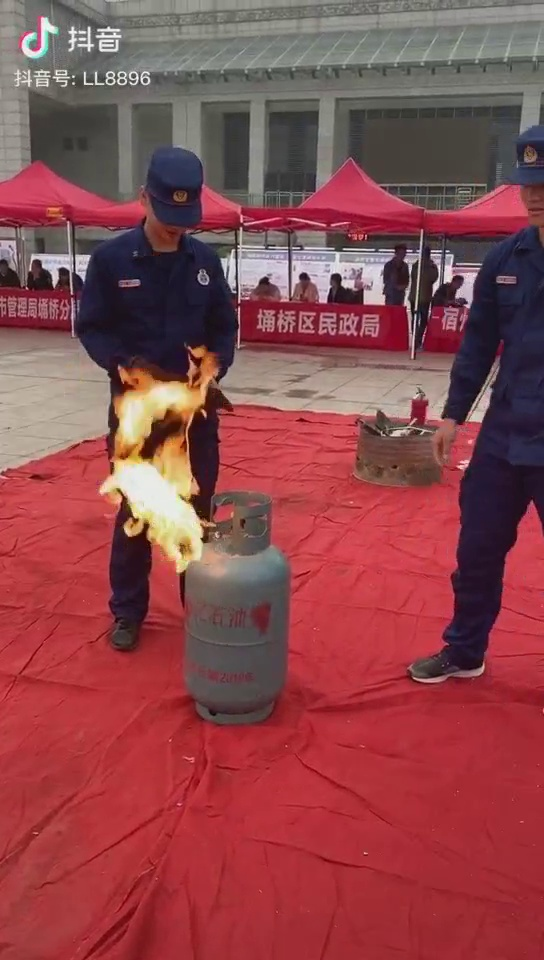fire: (105, 365, 210, 568)
